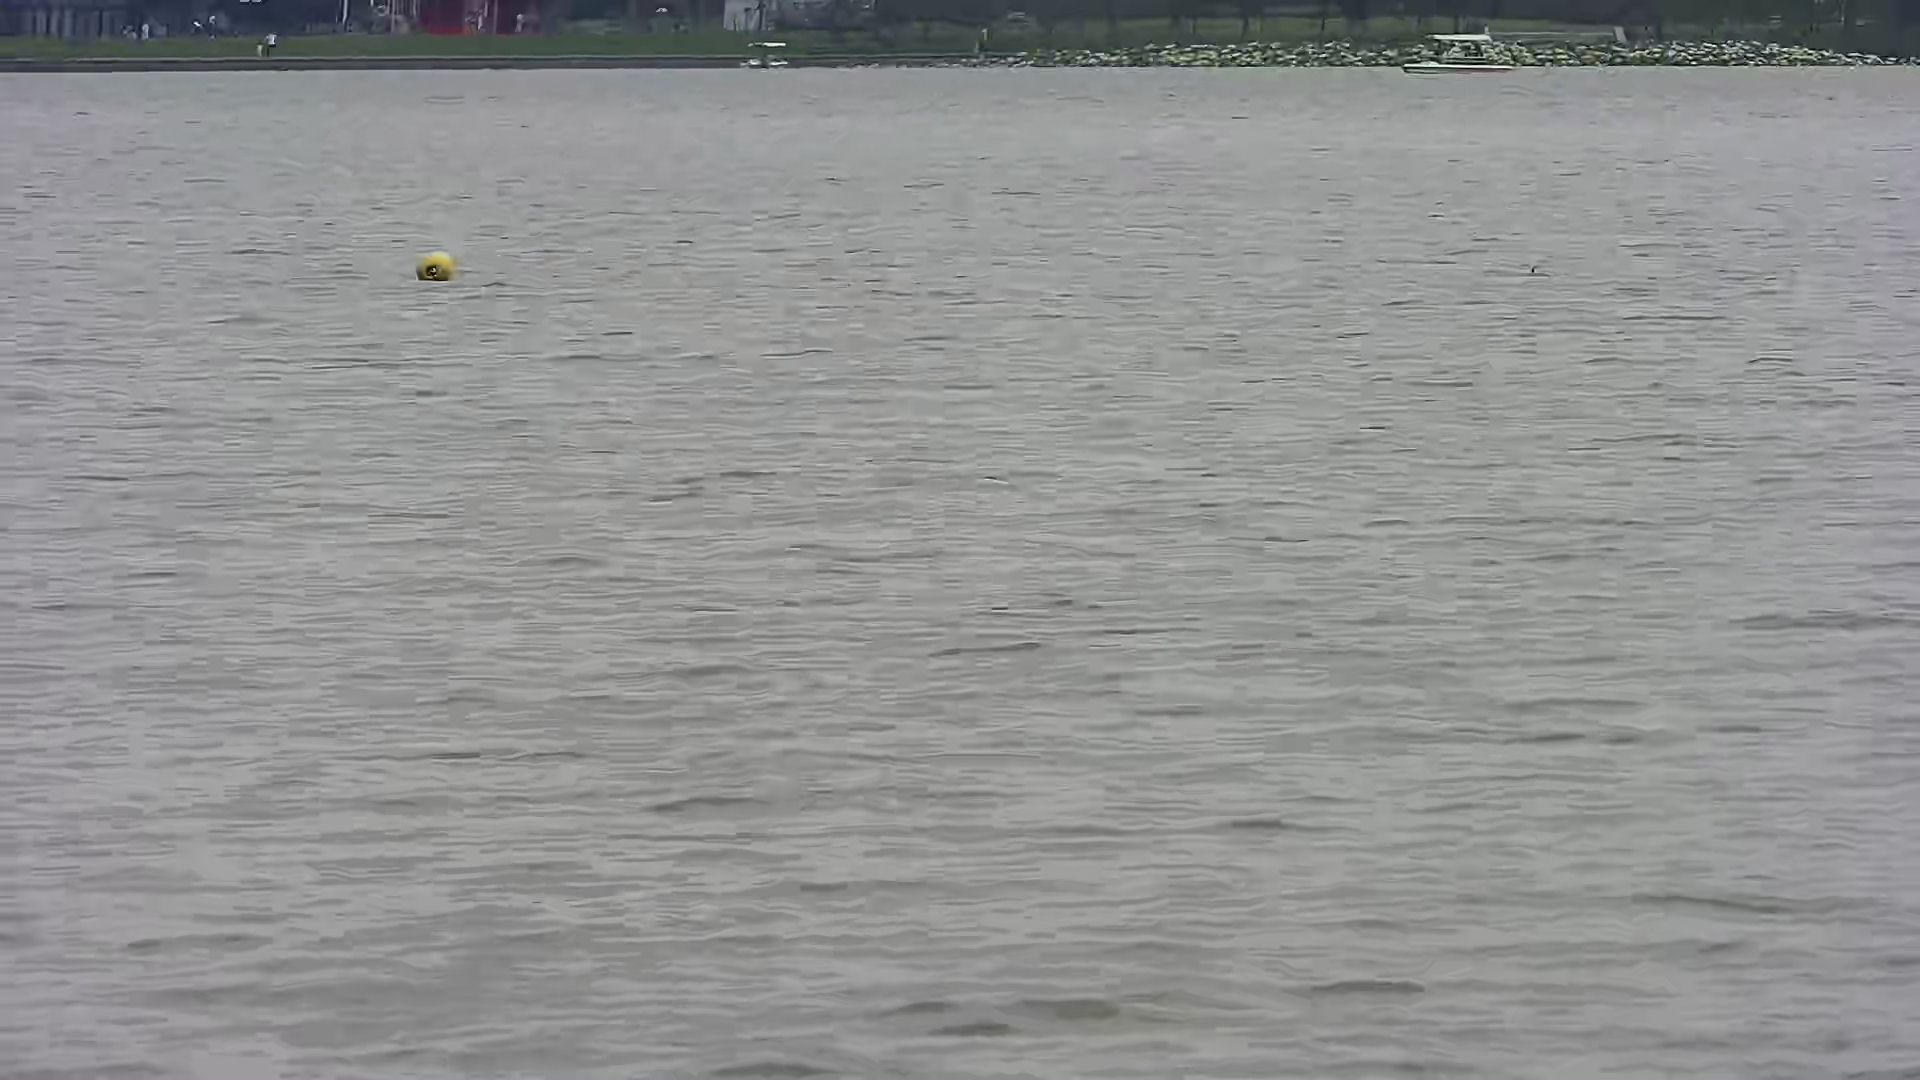rubbish: (414, 244, 458, 281)
